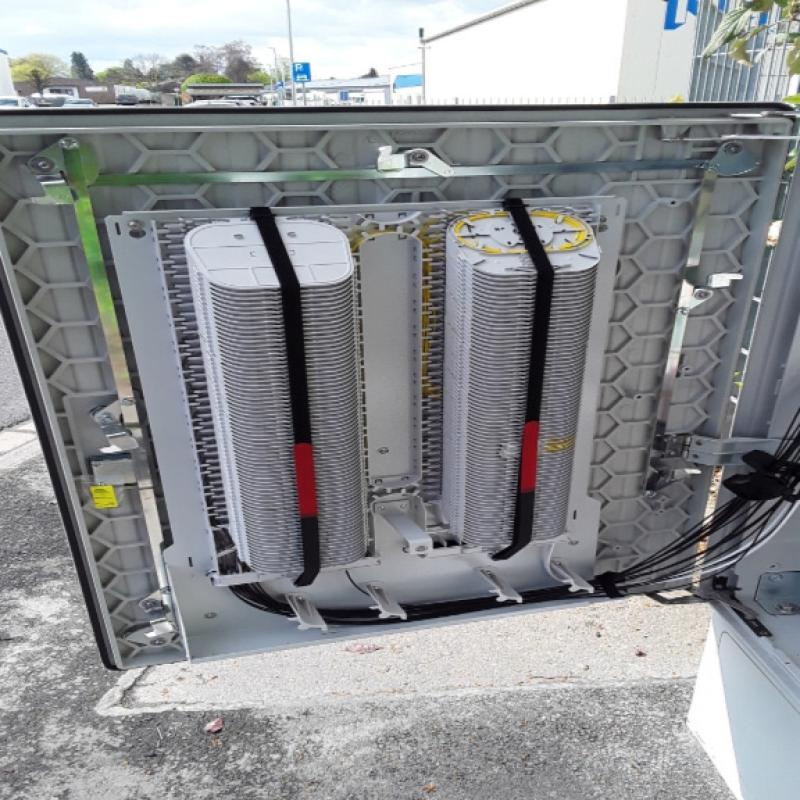NT-Gehause: (6, 111, 797, 800)
Spleiskassetten: (128, 211, 385, 578), (409, 199, 626, 561)
